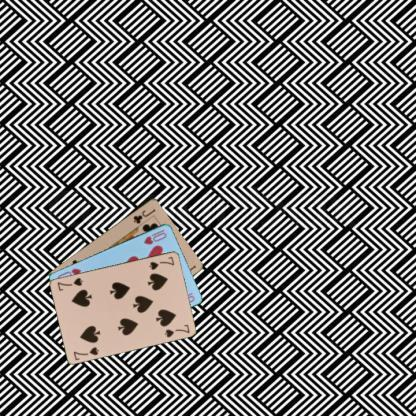10h: (142, 230, 168, 246)
7s: (146, 254, 176, 272), (71, 344, 100, 361)
Jc: (130, 206, 156, 224)
